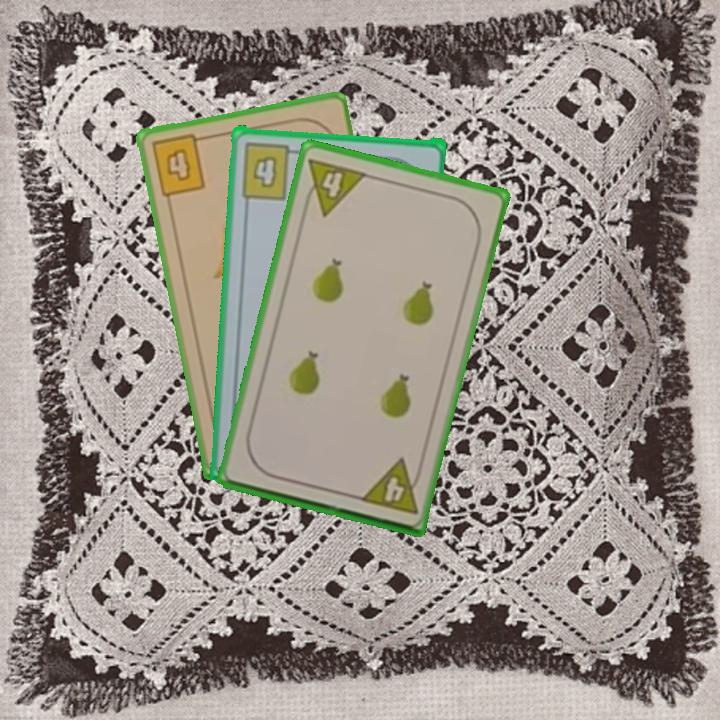4b: (237, 138, 304, 202), (147, 131, 210, 199)
4p: (299, 154, 370, 219), (356, 455, 426, 518)
